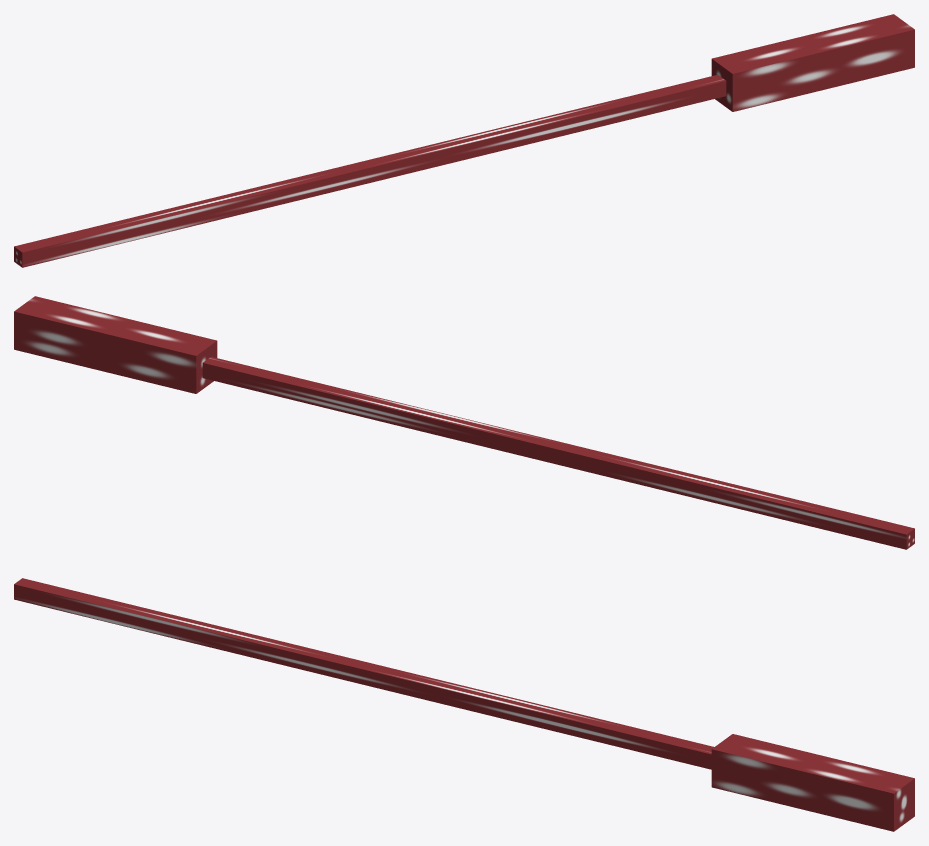
Rendered from Fisingrod.obj.
3 renders of one model, top to bottom at view 1: azimuth 30°, elevation 25°; view 2: azimuth 150°, elevation 25°; view 3: azimuth 330°, elevation 25°, orthographic.
Parts seen in each view (by area): view 1: Cube.001; view 2: Cube.001; view 3: Cube.001.
Boxes of the visible parts, x1=… form: Cube.001: x1=14, y1=14, x2=914, y2=267; Cube.001: x1=14, y1=296, x2=914, y2=549; Cube.001: x1=14, y1=578, x2=914, y2=831.
Bounding box in the file's own units: 2.43 × 0.1 × 0.1.
1 material, 1 textured.
